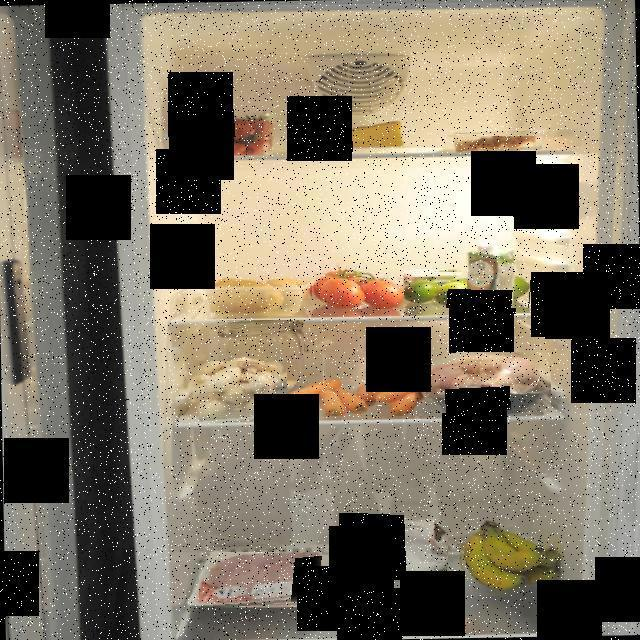banana: (456, 518, 564, 598)
carrot: (287, 369, 427, 416)
cheese: (344, 119, 406, 152)
chicken: (422, 352, 551, 414)
flour: (210, 321, 304, 404), (356, 508, 448, 583)
goat_cheese: (398, 269, 461, 288)
ham: (200, 552, 324, 610)
heavy_cream: (466, 238, 516, 314)
lime: (404, 272, 532, 308)
mushrooms: (180, 361, 293, 425)
potato: (206, 272, 313, 316)
shrimp: (452, 136, 542, 154)
strawberries: (176, 102, 276, 158)
tomato: (308, 260, 403, 310)
